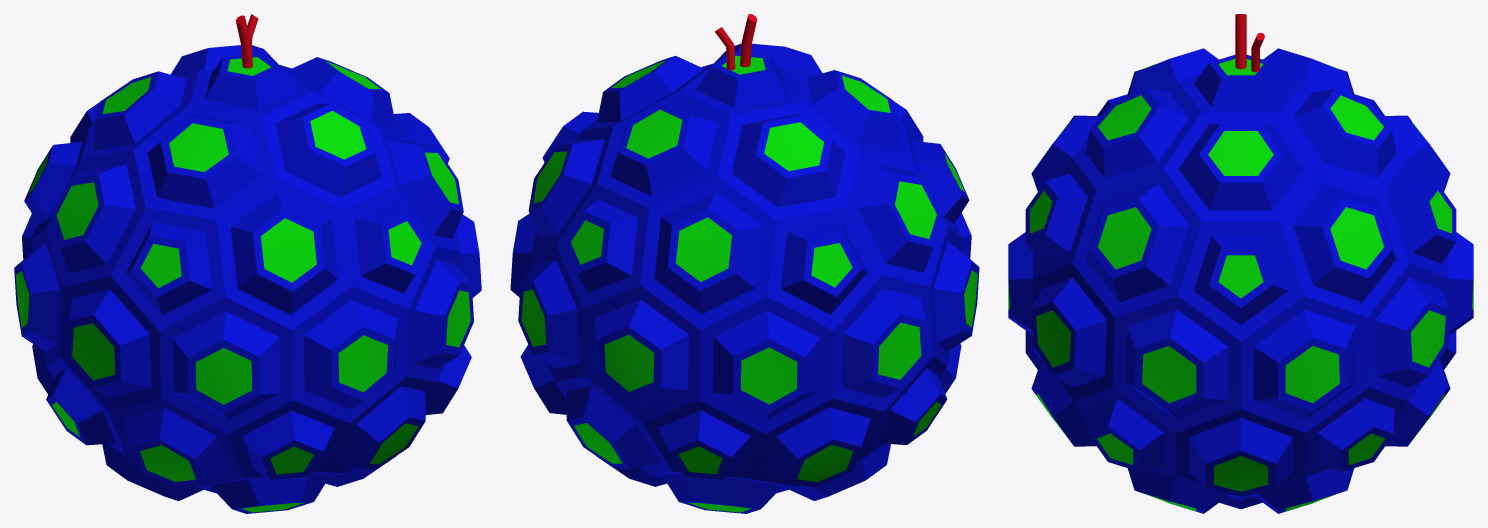
Rendered from SM_powercell.fbx.
3 views of the same model, side by side, from view 1: azimuth 30°, elevation 25°; view 2: azimuth 150°, elevation 25°; view 3: azimuth 270°, elevation 25° (orthographic).
Parts seen in each view (by area): view 1: geo_powercell; view 2: geo_powercell; view 3: geo_powercell.
Boxes of the visible parts, x1,y1,x2,y2 form: geo_powercell: [14, 14, 481, 513]; geo_powercell: [510, 14, 979, 513]; geo_powercell: [1008, 14, 1473, 513].
Bounding box in the file's own units: 198 × 226 × 199.
